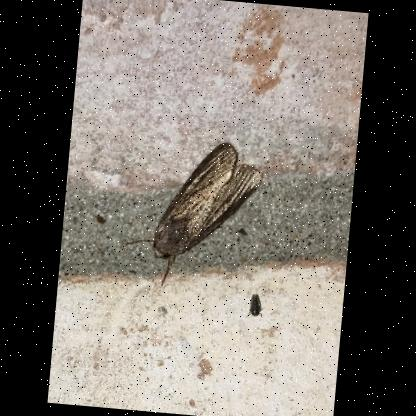Fall Armyworm Moth: (121, 133, 268, 297)
